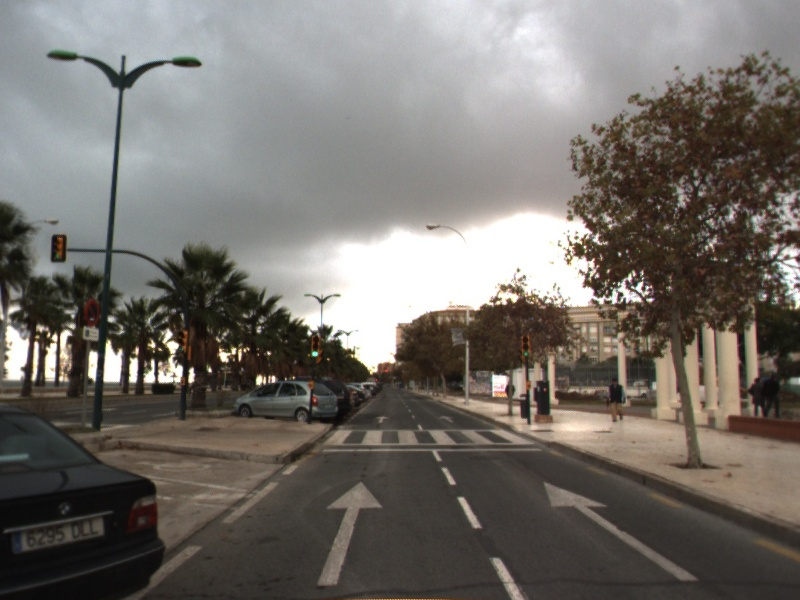STRAIGHT: (543, 480, 701, 583), (315, 479, 384, 587), (437, 414, 456, 424), (374, 414, 391, 425)
